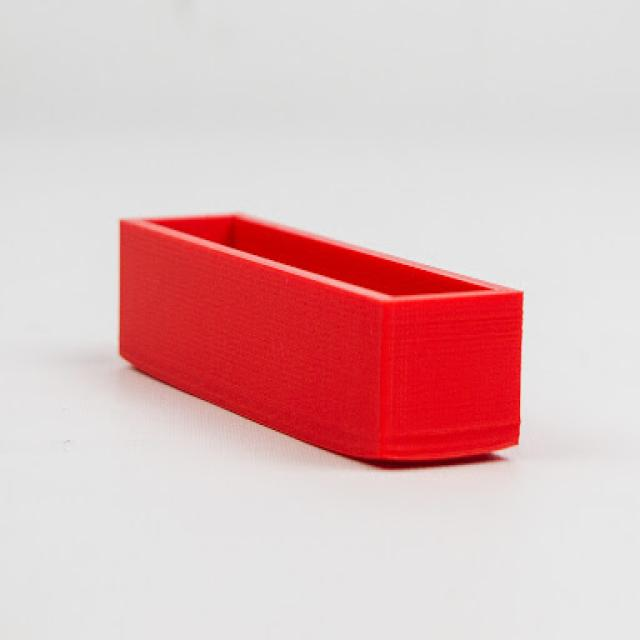Warping: (296, 413, 564, 511)
